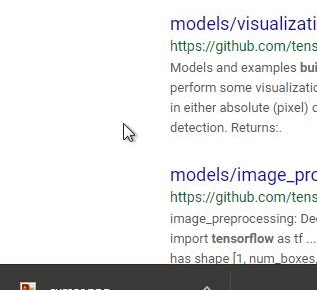cursor: (122, 120, 137, 145)
